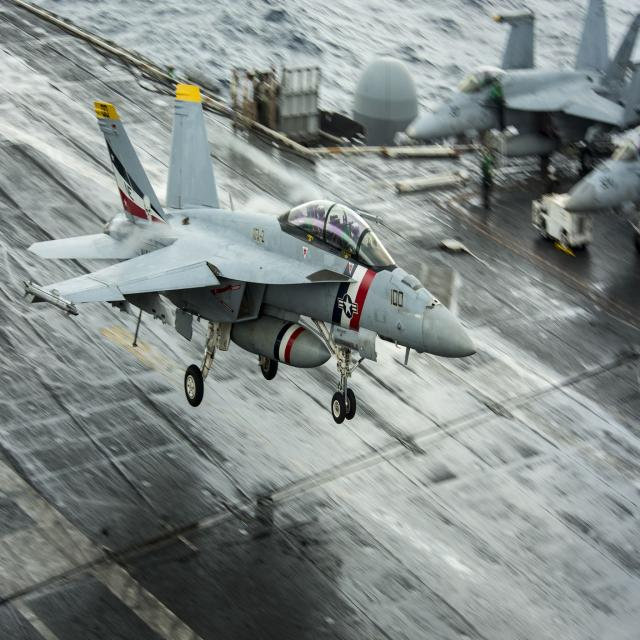MIL_Plane: (21, 85, 478, 423), (405, 0, 640, 193), (561, 123, 640, 215)
